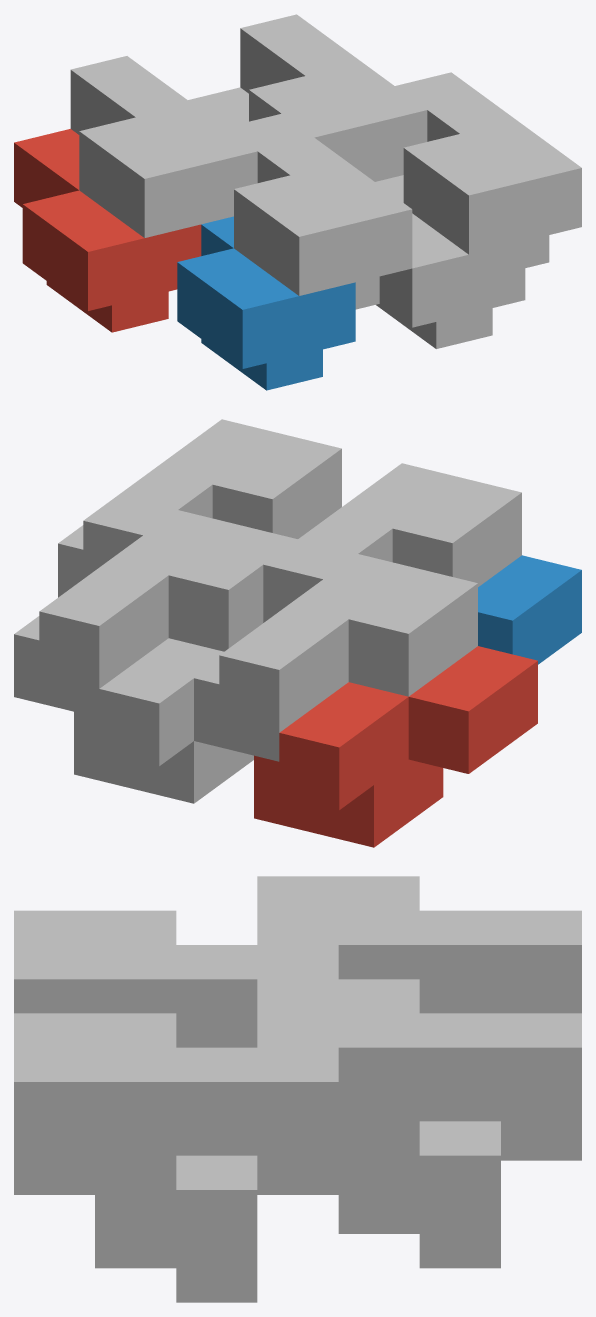
File: tiling.obj
The picture shows the model from 3 angles, top to bottom: view 1: azimuth 30°, elevation 25°; view 2: azimuth 150°, elevation 25°; view 3: azimuth 270°, elevation 25°; orthographic projection. The views are drawn at different scales.
Parts seen in each view (by area): view 1: copy_1_domain_3, copy_1_domain_4, copy_1_domain_8, copy_1_domain_1, copy_1_domain_7, copy_1_domain_2, copy_1_domain_6, copy_1_domain_5; view 2: copy_1_domain_1, copy_1_domain_3, copy_1_domain_7, copy_1_domain_8, copy_1_domain_4, copy_1_domain_5, copy_1_domain_2; view 3: copy_1_domain_8, copy_1_domain_7, copy_1_domain_3, copy_1_domain_4, copy_1_domain_6, copy_1_domain_5.
Part boxes in pixels (bbox=[...]): copy_1_domain_3: bbox=[70, 56, 257, 237]; copy_1_domain_4: bbox=[225, 113, 412, 309]; copy_1_domain_8: bbox=[395, 72, 581, 267]; copy_1_domain_1: bbox=[14, 129, 201, 332]; copy_1_domain_7: bbox=[240, 14, 427, 181]; copy_1_domain_2: bbox=[177, 216, 355, 390]; copy_1_domain_6: bbox=[375, 175, 525, 348]; copy_1_domain_5: bbox=[188, 87, 248, 127]; copy_1_domain_1: bbox=[254, 646, 537, 847]; copy_1_domain_3: bbox=[194, 554, 477, 761]; copy_1_domain_7: bbox=[14, 510, 297, 717]; copy_1_domain_8: bbox=[58, 419, 341, 597]; copy_1_domain_4: bbox=[263, 463, 521, 622]; copy_1_domain_5: bbox=[74, 638, 253, 803]; copy_1_domain_2: bbox=[478, 555, 581, 664]; copy_1_domain_8: bbox=[14, 1013, 338, 1263]; copy_1_domain_7: bbox=[257, 979, 581, 1228]; copy_1_domain_3: bbox=[257, 876, 581, 1013]; copy_1_domain_4: bbox=[14, 910, 338, 1047]; copy_1_domain_6: bbox=[14, 1155, 338, 1302]; copy_1_domain_5: bbox=[338, 1121, 581, 1268].
Size of the model in its own units: 8 by 3 by 7.
